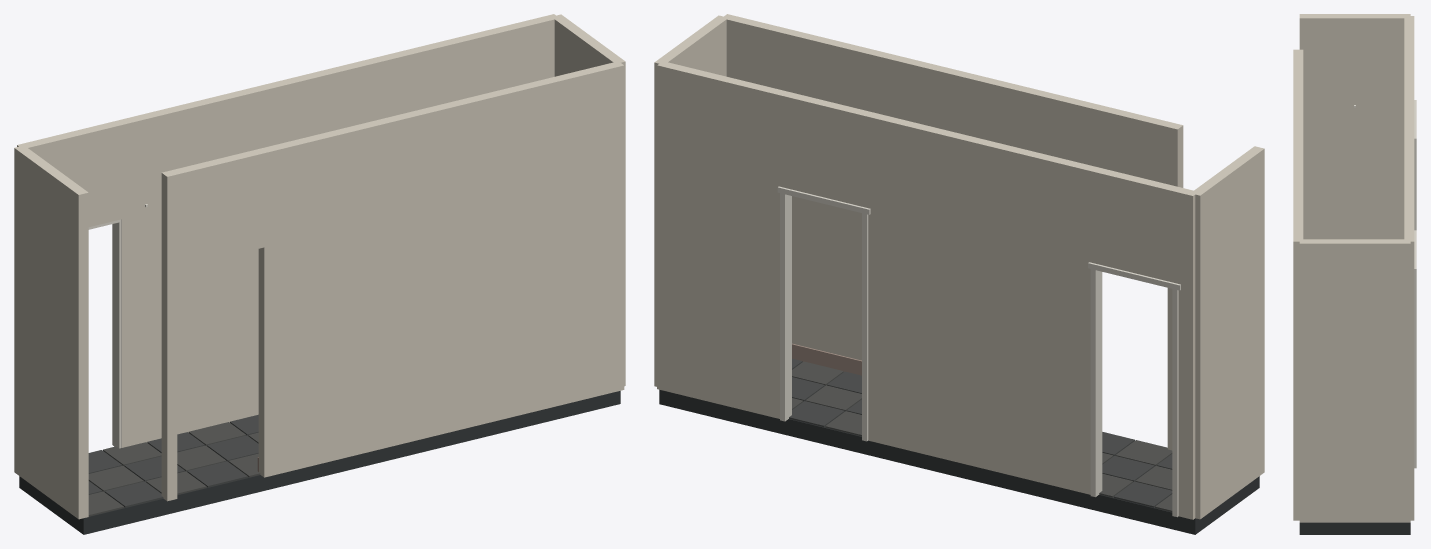
Rendered from pasillo_base.glb.
The picture shows the model from 3 angles, left to right: view 1: azimuth 30°, elevation 25°; view 2: azimuth 150°, elevation 25°; view 3: azimuth 270°, elevation 25°; orthographic projection. The views are drawn at different scales.
Visible parts, largest first — view 1: pared_entrada_pasillo_norte, pared_fondo_pasillo_tramo_2, pared_larga_izquierda_pasillo_sur, base_suelo_pasillo, pared_entrada_pasillo_dintel, pared_fondo_pasillo_extremo, pared_entrada_pasillo_junto_tabique, pared_fondo_pasillo_dintel_1, pared_fondo_pasillo_dintel_2, pared_larga_derecha_pasillo_norte, marco_dormitorio_1_derecho, baldosa_pasillo_3_2 (+6 smaller); view 2: pared_fondo_pasillo_tramo_2, pared_fondo_pasillo_extremo, pared_entrada_pasillo_norte, pared_larga_izquierda_pasillo_sur, base_suelo_pasillo, pared_fondo_pasillo_dintel_2, pared_fondo_pasillo_dintel_1, pared_fondo_pasillo_tramo_1, pared_entrada_pasillo_dintel, pared_larga_derecha_pasillo_norte, marco_dormitorio_1_derecho, marco_dormitorio_2_derecho (+10 smaller); view 3: pared_larga_derecha_pasillo_norte, pared_larga_izquierda_pasillo_sur, pared_entrada_pasillo_norte, pared_fondo_pasillo_extremo, base_suelo_pasillo, pared_fondo_pasillo_tramo_2, marco_dormitorio_2_derecho, pared_entrada_pasillo_dintel, pared_fondo_pasillo_dintel_2, pared_fondo_pasillo_dintel_1, marco_dormitorio_1_derecho.
Part boxes in pixels (x1,y1,x2,y2): pared_entrada_pasillo_norte: (258, 62, 624, 477); pared_fondo_pasillo_tramo_2: (116, 65, 350, 447); pared_larga_izquierda_pasillo_sur: (14, 145, 88, 519); base_suelo_pasillo: (19, 391, 620, 534); pared_entrada_pasillo_dintel: (172, 149, 264, 268); pared_fondo_pasillo_extremo: (427, 14, 559, 106); pared_entrada_pasillo_junto_tabique: (161, 170, 177, 501); pared_fondo_pasillo_dintel_1: (34, 121, 121, 227); pared_fondo_pasillo_dintel_2: (345, 45, 432, 126); pared_larga_derecha_pasillo_norte: (554, 14, 625, 386); marco_dormitorio_1_derecho: (112, 219, 121, 448); baldosa_pasillo_3_2: (187, 461, 247, 487); pared_fondo_pasillo_tramo_2: (865, 112, 1099, 494); pared_fondo_pasillo_extremo: (657, 62, 788, 418); pared_entrada_pasillo_norte: (722, 14, 1085, 360); pared_larga_izquierda_pasillo_sur: (1191, 146, 1264, 519); base_suelo_pasillo: (659, 389, 1259, 534); pared_fondo_pasillo_dintel_2: (784, 92, 870, 207); pared_fondo_pasillo_dintel_1: (1094, 168, 1181, 283); pared_fondo_pasillo_tramo_1: (1176, 188, 1197, 519); pared_entrada_pasillo_dintel: (1080, 101, 1172, 183); pared_larga_derecha_pasillo_norte: (654, 15, 727, 386); marco_dormitorio_1_derecho: (1090, 266, 1102, 497); marco_dormitorio_2_derecho: (780, 190, 791, 421); pared_larga_derecha_pasillo_norte: (1299, 239, 1410, 522); pared_larga_izquierda_pasillo_sur: (1299, 14, 1410, 239); pared_entrada_pasillo_norte: (1293, 90, 1303, 520); pared_fondo_pasillo_extremo: (1404, 188, 1414, 520); base_suelo_pasillo: (1299, 522, 1410, 534); pared_fondo_pasillo_tramo_2: (1404, 57, 1414, 153); marco_dormitorio_2_derecho: (1414, 273, 1416, 468); pared_entrada_pasillo_dintel: (1293, 54, 1303, 90); pared_fondo_pasillo_dintel_2: (1404, 153, 1414, 188); pared_fondo_pasillo_dintel_1: (1404, 23, 1414, 57); marco_dormitorio_1_derecho: (1414, 143, 1416, 230).
Bounding box in the file's own units: 5.47 × 3.26 × 1.24.
